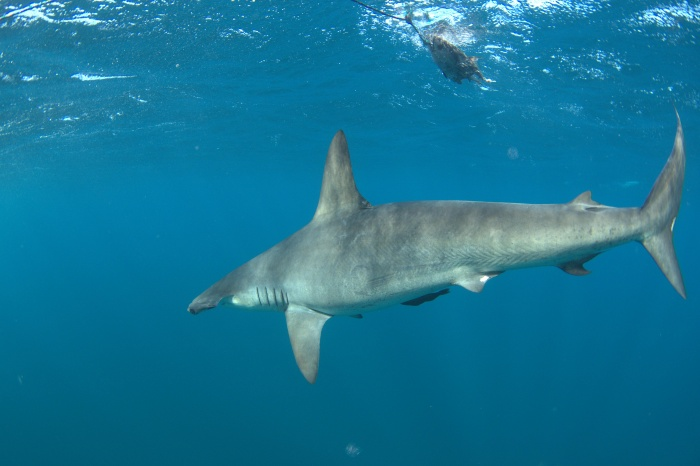Hammer: (136, 92, 700, 392)
